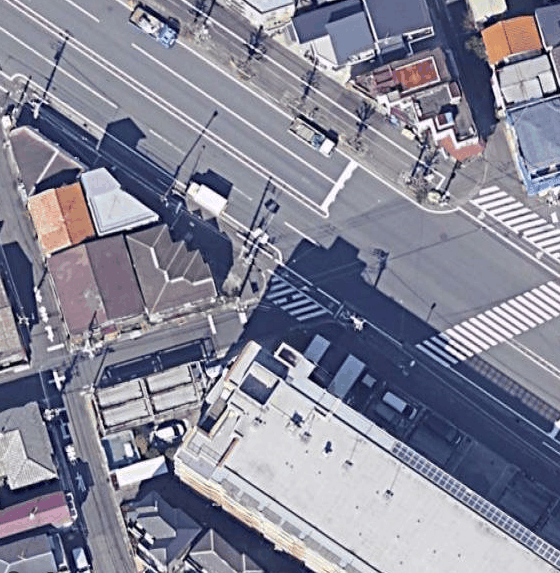facility: (165, 323, 432, 572), (320, 441, 557, 572)
